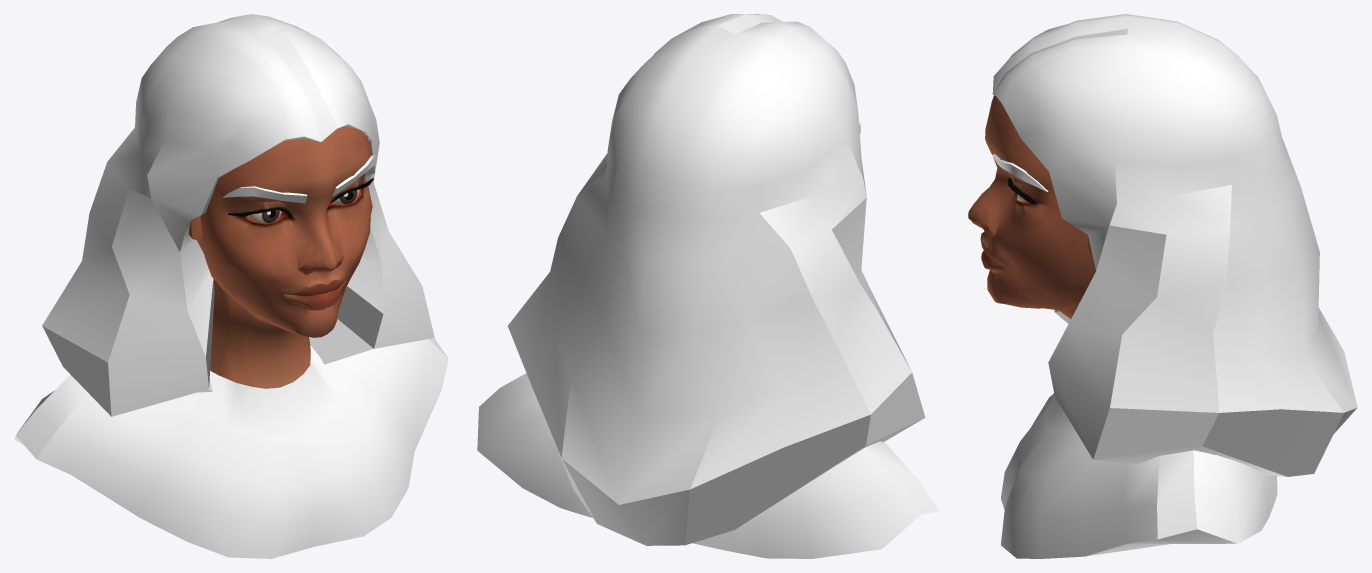
The model's file is Female_Avatar_2.fbx.
3 renders of one model, left to right at view 1: azimuth 30°, elevation 25°; view 2: azimuth 150°, elevation 25°; view 3: azimuth 270°, elevation 25°, orthographic. The views are drawn at different scales.
Visible parts, largest first — view 1: Female Head.001, Hair_Curly, Eyebrow.002, Eyes.002; view 2: Hair_Curly, Female Head.001; view 3: Hair_Curly, Female Head.001, Eyebrow.002.
Boxes of the visible parts, bbox=[...] form: Female Head.001: bbox=[14, 126, 448, 558]; Hair_Curly: bbox=[42, 14, 434, 416]; Eyebrow.002: bbox=[222, 155, 375, 203]; Eyes.002: bbox=[248, 189, 359, 222]; Hair_Curly: bbox=[508, 14, 925, 545]; Female Head.001: bbox=[477, 373, 939, 558]; Hair_Curly: bbox=[992, 14, 1357, 476]; Female Head.001: bbox=[968, 95, 1277, 558]; Eyebrow.002: bbox=[992, 154, 1048, 191].
Size of the model in its own units: 49.86 by 54.58 by 38.68.
3 materials, 1 textured.
